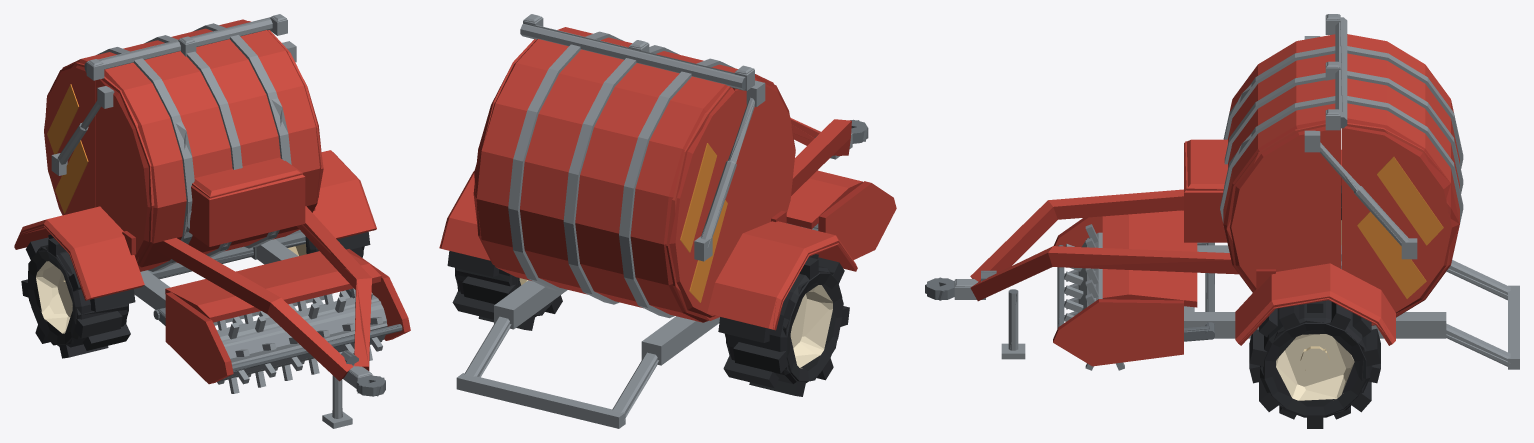
The model's file is FMS_Mach_Baler_Round.fbx.
3 renders of one model, left to right at view 1: azimuth 30°, elevation 25°; view 2: azimuth 150°, elevation 25°; view 3: azimuth 270°, elevation 25°, orthographic. The views are drawn at different scales.
Visible parts, largest first — view 1: Body, Pickup, Tailgate, Body_Low1, Wheel_R, Wheel_R_Low1, Pickup_Low1, Wheel_L, Wheel_L_Low1; view 2: Tailgate, Body, Wheel_R, Pickup, Wheel_R_Low1, Body_Low1, Tailgate_Low1, Wheel_L, Wheel_L_Low1; view 3: Body, Tailgate, Pickup, Wheel_L, Body_Low1, Wheel_L_Low1, Tailgate_Low1, Pickup_Low1.
Boxes of the visible parts, box(x1,y1,x2,y2) form: Body: box(14, 14, 385, 428); Pickup: box(153, 249, 410, 393); Tailgate: box(44, 19, 249, 215); Body_Low1: box(14, 14, 384, 417); Wheel_R: box(21, 234, 135, 358); Wheel_R_Low1: box(24, 237, 134, 357); Pickup_Low1: box(154, 251, 408, 392); Wheel_L: box(295, 232, 370, 257); Wheel_L_Low1: box(288, 232, 369, 255); Tailgate: box(473, 39, 754, 322); Body: box(440, 14, 868, 428); Wheel_R: box(718, 254, 849, 396); Pickup: box(786, 170, 896, 259); Wheel_R_Low1: box(719, 257, 849, 381); Body_Low1: box(439, 14, 867, 420); Tailgate_Low1: box(474, 39, 754, 320); Wheel_L: box(447, 251, 562, 330); Wheel_L_Low1: box(448, 251, 561, 315); Body: box(927, 14, 1519, 369); Tailgate: box(1320, 34, 1463, 325); Pickup: box(1053, 210, 1214, 370); Wheel_L: box(1249, 300, 1380, 428); Body_Low1: box(925, 14, 1507, 362); Wheel_L_Low1: box(1249, 301, 1380, 428); Tailgate_Low1: box(1320, 58, 1462, 325); Pickup_Low1: box(1053, 217, 1214, 341).
Bounding box in the file's own units: 2.73 × 2.45 × 4.54.
